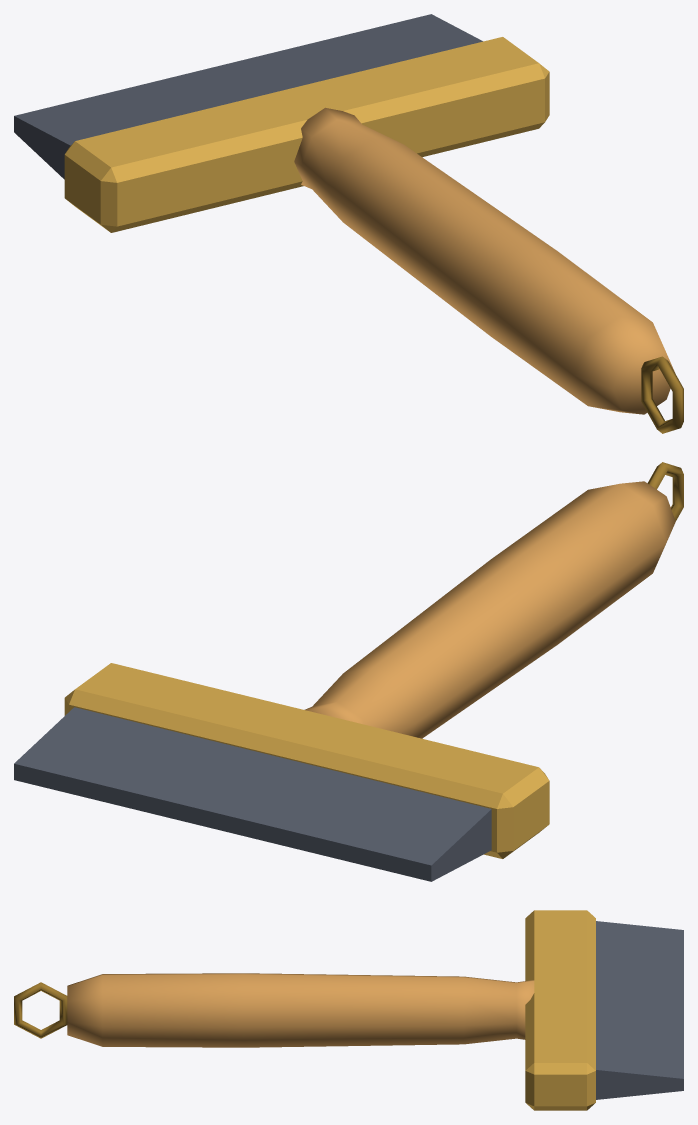
Rendered from scraper.glb.
The picture shows the model from 3 angles, top to bottom: view 1: azimuth 30°, elevation 25°; view 2: azimuth 150°, elevation 25°; view 3: azimuth 270°, elevation 25°; orthographic projection. The views are drawn at different scales.
Parts seen in each view (by area): view 1: ScraperMesh; view 2: ScraperMesh; view 3: ScraperMesh.
Part boxes in pixels (<box>): ScraperMesh: <box>14,14,683,433</box>; ScraperMesh: <box>14,462,683,881</box>; ScraperMesh: <box>14,910,683,1110</box>.
Size of the model in its own units: 0.086 by 0.018 by 0.1521.
Materials: 1 (1 with a texture image).
